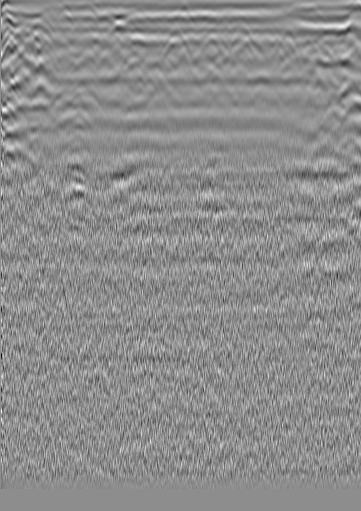가스: (96, 168, 131, 201)
상수: (308, 35, 328, 55)
우수: (163, 24, 183, 44)
